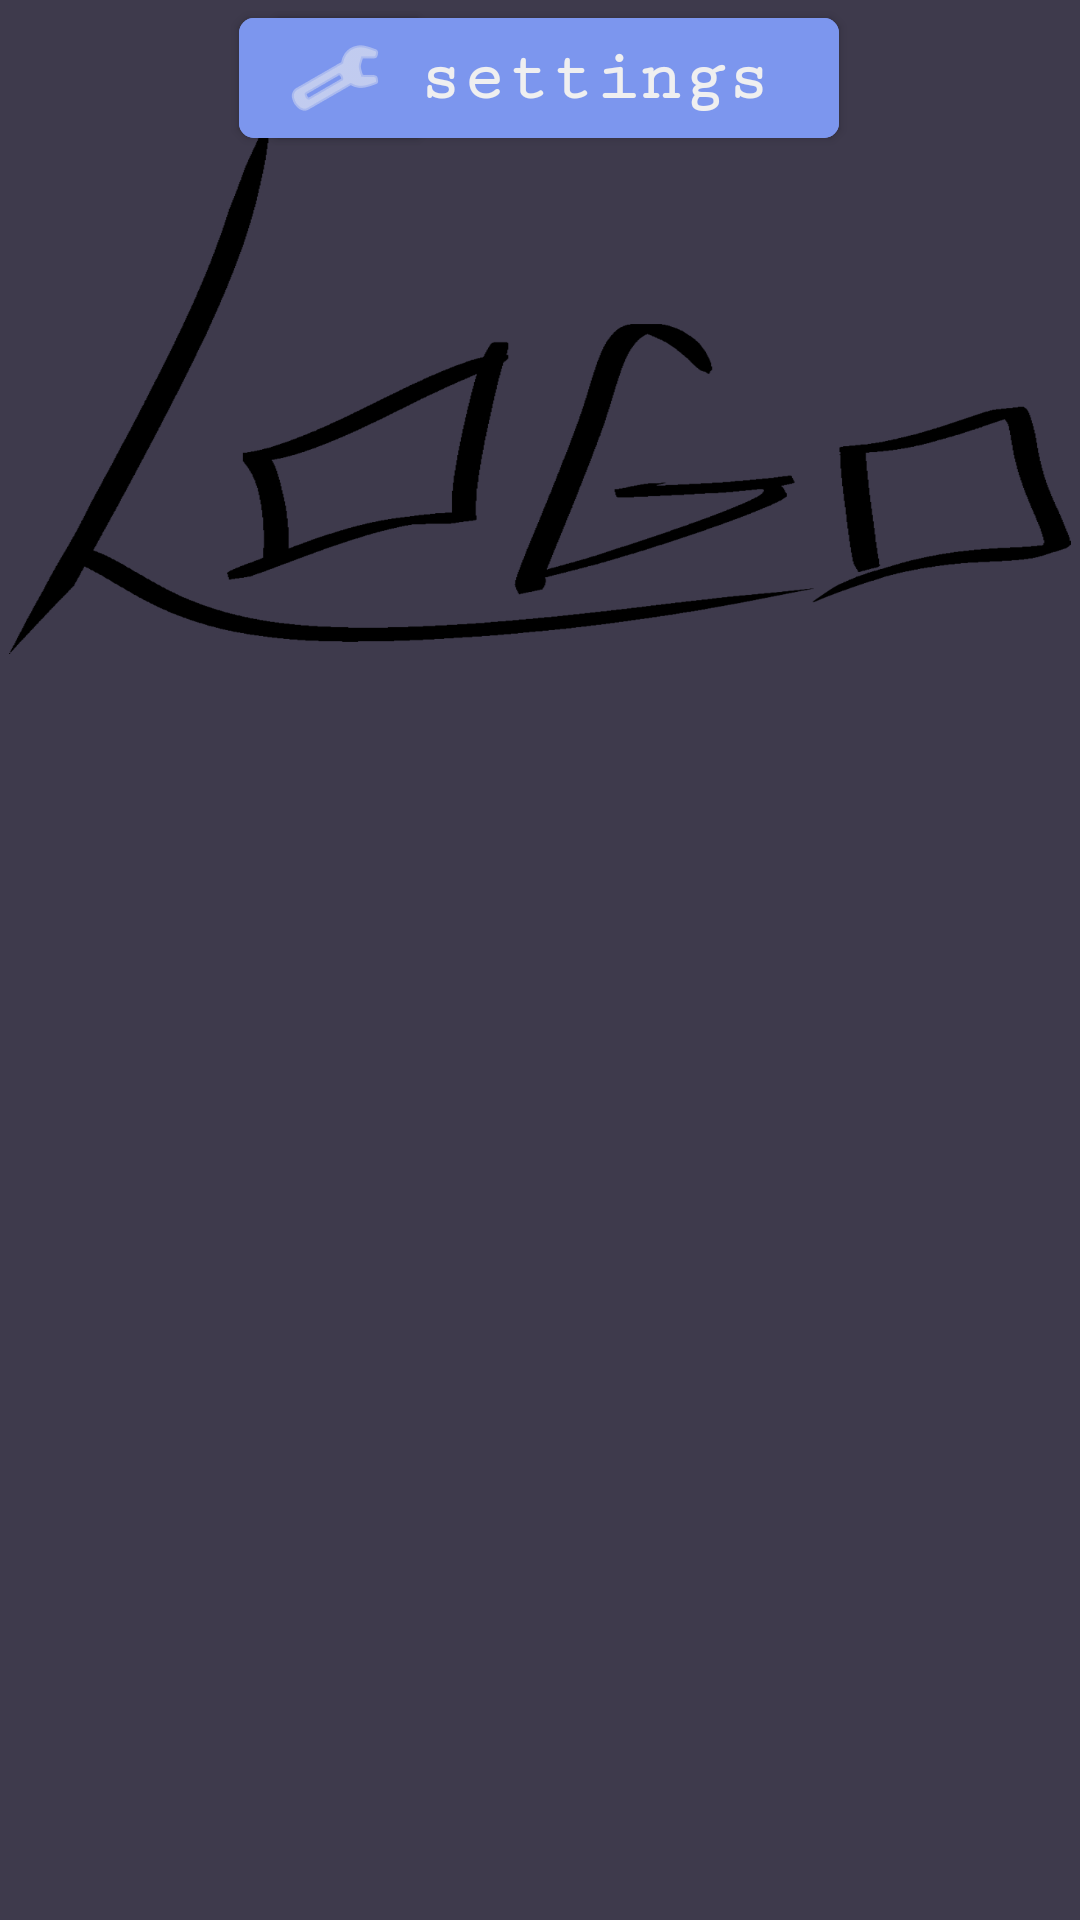

Where to tap for icons on this 1080px×1920px app screen, as (x,y):
manage: (348,78)
